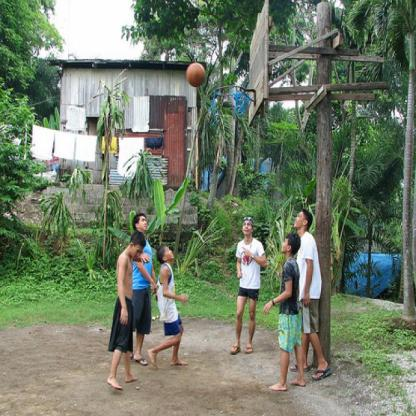basketball: (186, 62, 205, 88)
rim: (215, 84, 246, 100)
